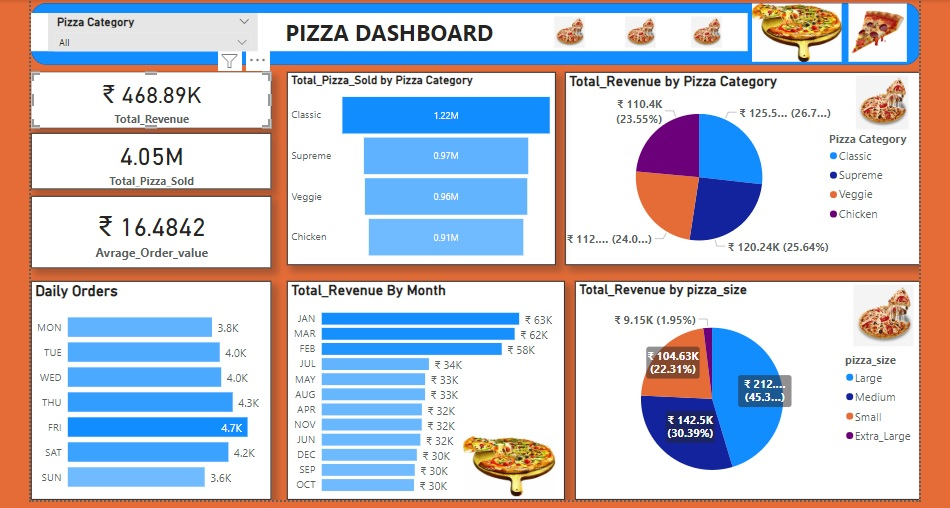

Layout of this report page (visuals, bound fields, positions):
{"tool":"powerbi","page":{"name":"Page 1","canvas":[1280,720],"ordinal":0},"visuals":[{"type":"clusteredBarChart","title":"Daily Orders","fields":{"Category":["Pizza_Dataset.Order Day"],"Y":["Key_Measures.Total_orders"]},"box":[0,404.6,345.6,315.4],"z":0},{"type":"clusteredBarChart","title":"Total_Revenue By Month","fields":{"Category":["Pizza_Dataset.Order Month"],"Y":["Key_Measures.Total_Revenue"]},"box":[368.6,404.6,400.3,315.4],"z":1000},{"type":"pieChart","fields":{"Category":["Pizza_Dataset.category"],"Y":["Key_Measures.Total_Revenue"]},"box":[769,103.7,511.2,277.9],"z":2000},{"type":"pieChart","fields":{"Category":["Pizza_Dataset.pizza_size"],"Y":["Key_Measures.Total_Revenue"]},"box":[783.4,404.6,496.8,315.4],"z":3000},{"type":"funnel","fields":{"Y":["Key_Measures.Total_Pizza_Sold"],"Category":["Pizza_Dataset.category"]},"box":[368.6,103.7,387.4,277.9],"z":4000},{"type":"shape","box":[0,4.3,1280.2,89.3],"z":5000},{"type":"textbox","box":[0,18.7,1032.5,54.7],"z":6000},{"type":"card","fields":{"Values":["Key_Measures.Total_Revenue"]},"box":[0,103.7,345.6,80.6],"z":7000},{"type":"card","fields":{"Values":["Key_Measures.Total_Pizza_Sold"]},"box":[0,191.5,345.6,80.6],"z":7001},{"type":"card","fields":{"Values":["Key_Measures.Avrage_Order_value"]},"box":[0,282.2,345.6,103.7],"z":7002},{"type":"slicer","fields":{"Values":["Pizza_Dataset.category"]},"box":[24.5,18.7,302.4,54.7],"z":7003},{"type":"image","box":[1159.2,0,121,93.6],"z":7004},{"type":"image","box":[1025.3,0,155.5,93.6],"z":7005},{"type":"image","box":[1175,404.6,105.1,99.4],"z":7006},{"type":"image","box":[1180.8,103.7,90.7,87.8],"z":7007},{"type":"image","box":[607.7,623.5,161.3,96.5],"z":7008},{"type":"image","box":[737.3,18.7,76.3,54.7],"z":7010},{"type":"image","box":[934.6,18.7,76.3,54.7],"z":7011},{"type":"image","box":[839.5,18.7,76.3,54.7],"z":7012}]}

Visuals, with their boxes in screenshot pixels (x1, y1, x2, y2):
"Daily Orders" clusteredBarChart: [left=30, top=279, right=270, bottom=498]
"Total_Revenue By Month" clusteredBarChart: [left=286, top=279, right=564, bottom=498]
pieChart - Pizza_Dataset.category x Key_Measures.Total_Revenue: [left=564, top=70, right=919, bottom=263]
pieChart - Pizza_Dataset.pizza_size x Key_Measures.Total_Revenue: [left=574, top=279, right=919, bottom=498]
funnel - Key_Measures.Total_Pizza_Sold x Pizza_Dataset.category: [left=286, top=70, right=555, bottom=263]
shape: [left=30, top=1, right=919, bottom=63]
textbox: [left=30, top=11, right=747, bottom=49]
card - Key_Measures.Total_Revenue: [left=30, top=70, right=270, bottom=126]
card - Key_Measures.Total_Pizza_Sold: [left=30, top=131, right=270, bottom=187]
card - Key_Measures.Avrage_Order_value: [left=30, top=194, right=270, bottom=266]
slicer - Pizza_Dataset.category: [left=47, top=11, right=257, bottom=49]
image: [left=835, top=0, right=919, bottom=63]
image: [left=742, top=0, right=850, bottom=63]
image: [left=846, top=279, right=919, bottom=348]
image: [left=850, top=70, right=913, bottom=131]
image: [left=452, top=431, right=564, bottom=498]
image: [left=542, top=11, right=595, bottom=49]
image: [left=679, top=11, right=732, bottom=49]
image: [left=613, top=11, right=666, bottom=49]
